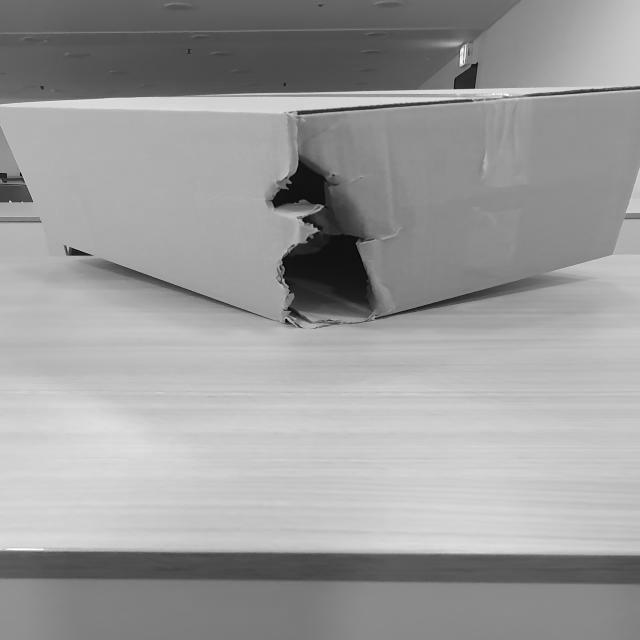hole: (252, 154, 392, 330)
